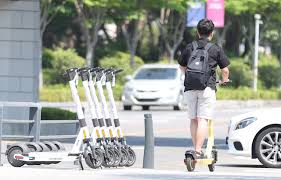nonhelmet: (174, 17, 230, 173)
